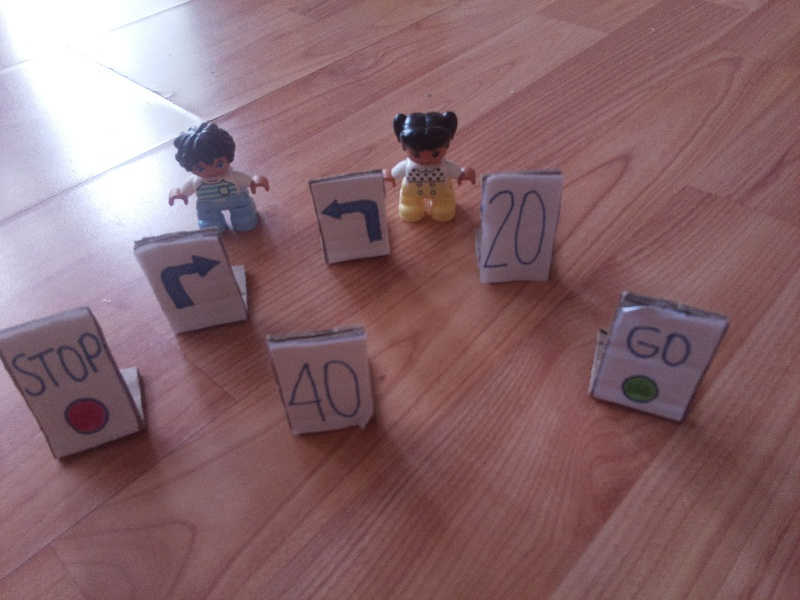20: (486, 185, 544, 273)
40: (280, 355, 366, 429)
go: (615, 318, 693, 408)
person: (160, 122, 273, 237), (379, 100, 476, 225)
stop: (10, 333, 116, 435)
turn left: (318, 195, 385, 247)
turn right: (153, 251, 228, 316)
